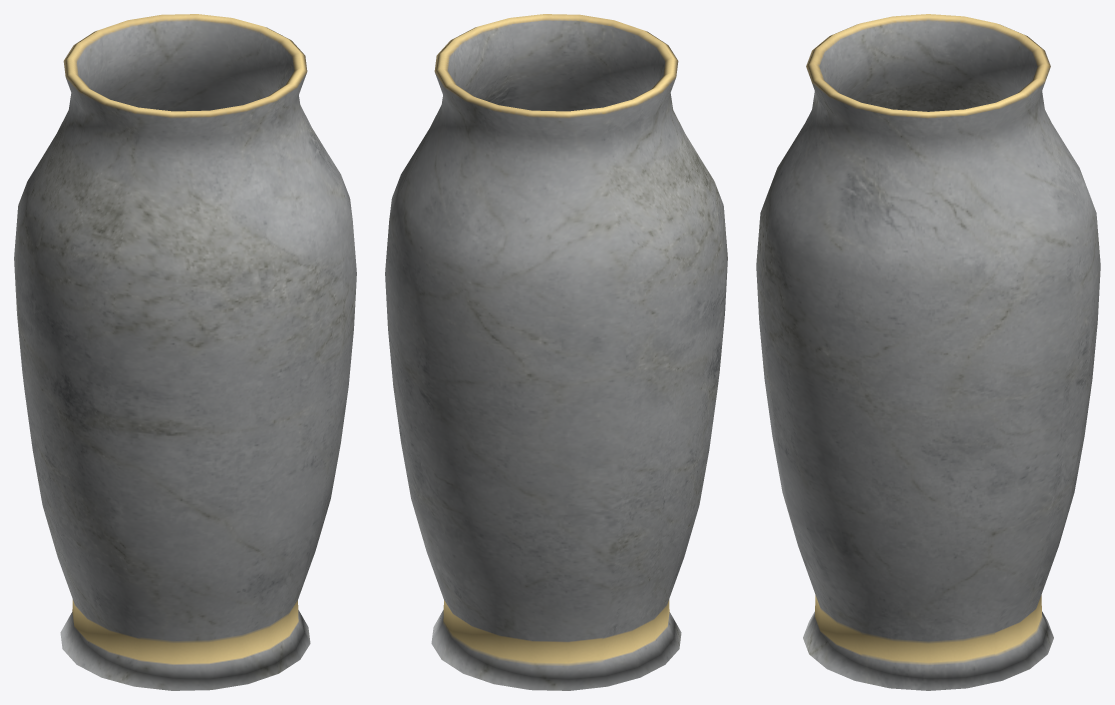
The model's file is Tubo3.fbx.
The picture shows the model from 3 angles, left to right: view 1: azimuth 30°, elevation 25°; view 2: azimuth 150°, elevation 25°; view 3: azimuth 270°, elevation 25°; orthographic projection.
Parts seen in each view (by area): view 1: pSphere1; view 2: pSphere1; view 3: pSphere1.
Boxes of the visible parts, x1,y1,x2,y2 form: pSphere1: (14, 14, 356, 690); pSphere1: (385, 14, 727, 690); pSphere1: (756, 14, 1100, 690).
Bounding box in the file's own units: 21.14 × 38.92 × 21.14.
